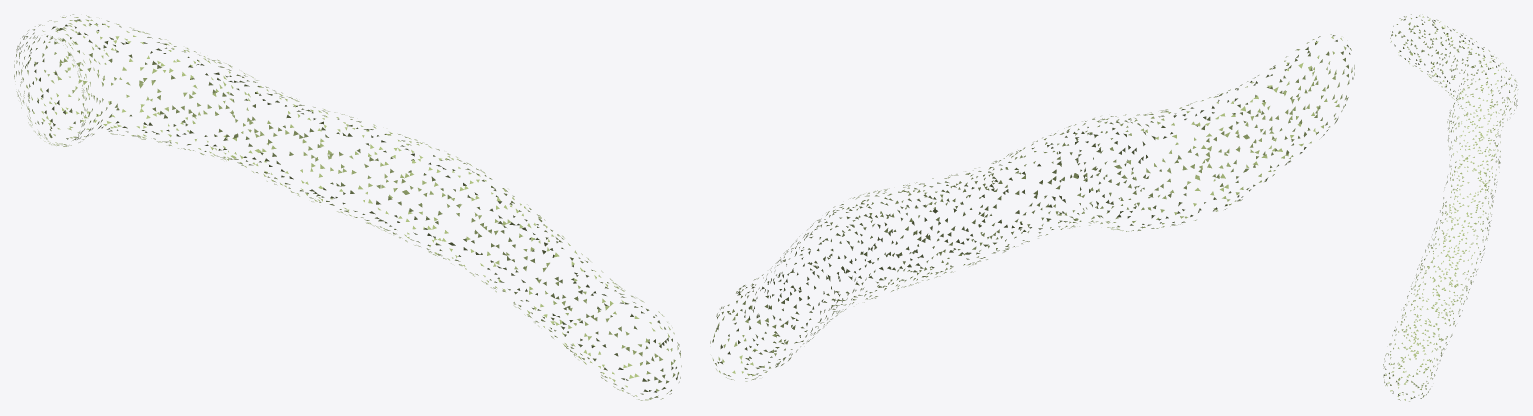
The model's file is morph_011.glb.
3 renders of one model, left to right at view 1: azimuth 30°, elevation 25°; view 2: azimuth 150°, elevation 25°; view 3: azimuth 270°, elevation 25°, orthographic. The views are drawn at different scales.
Bounding box in the file's own units: 101 × 75.47 × 38.07.
